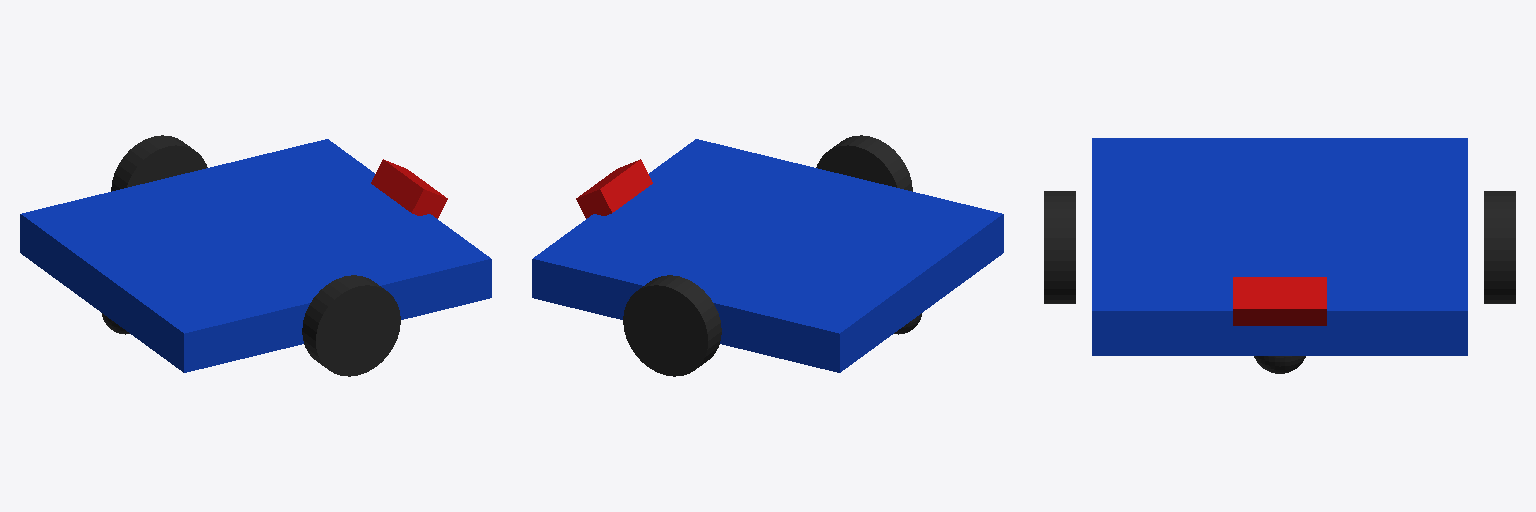
robot.urdf — line_follower_bot:
<?xml version="1.0"?>
<!--
  Line follower bot, resized to fit a 150 x 150 x 40 mm envelope
  (length x width x height, measured from the ground, wheels and camera included).

  base_link origin = wheel axle, 0.018 m above ground.
  So in the base_link frame: ground is z = -0.018, the 40 mm ceiling is z = +0.022.
-->
<robot name="line_follower_bot">

  <material name="body_blue"><color rgba="0.1 0.3 0.8 1.0"/></material>
  <material name="wheel_grey"><color rgba="0.2 0.2 0.2 1.0"/></material>
  <material name="cam_red"><color rgba="0.8 0.1 0.1 1.0"/></material>

  <!-- Chassis: 130 x 120 x 16 mm, centred on the axle, 10 mm ground clearance -->
  <link name="base_link">
    <inertial>
      <origin xyz="0 0 0" rpy="0 0 0"/>
      <mass value="0.30"/>
      <inertia ixx="3.664e-4" ixy="0" ixz="0" iyy="4.289e-4" iyz="0" izz="7.825e-4"/>
    </inertial>
    <visual>
      <origin xyz="0 0 0" rpy="0 0 0"/>
      <geometry><box size="0.13 0.12 0.016"/></geometry>
      <material name="body_blue"/>
    </visual>
    <collision>
      <origin xyz="0 0 0" rpy="0 0 0"/>
      <geometry><box size="0.13 0.12 0.016"/></geometry>
    </collision>
  </link>

  <!-- Drive wheels: radius 18 mm (36 mm diameter), width 10 mm, centres at y = +/-70 mm
       so the outer faces sit exactly at y = +/-75 mm (150 mm overall width) -->
  <link name="left_wheel_link">
    <inertial>
      <mass value="0.03"/>
      <inertia ixx="2.68e-6" ixy="0" ixz="0" iyy="2.68e-6" iyz="0" izz="4.86e-6"/>
    </inertial>
    <visual>
      <geometry><cylinder radius="0.018" length="0.01"/></geometry>
      <material name="wheel_grey"/>
    </visual>
    <collision>
      <geometry><cylinder radius="0.018" length="0.01"/></geometry>
    </collision>
  </link>
  <joint name="left_wheel_joint" type="continuous">
    <parent link="base_link"/>
    <child link="left_wheel_link"/>
    <origin xyz="0 0.07 0" rpy="-1.5708 0 0"/>
    <axis xyz="0 0 1"/>
  </joint>

  <link name="right_wheel_link">
    <inertial>
      <mass value="0.03"/>
      <inertia ixx="2.68e-6" ixy="0" ixz="0" iyy="2.68e-6" iyz="0" izz="4.86e-6"/>
    </inertial>
    <visual>
      <geometry><cylinder radius="0.018" length="0.01"/></geometry>
      <material name="wheel_grey"/>
    </visual>
    <collision>
      <geometry><cylinder radius="0.018" length="0.01"/></geometry>
    </collision>
  </link>
  <joint name="right_wheel_joint" type="continuous">
    <parent link="base_link"/>
    <child link="right_wheel_link"/>
    <origin xyz="0 -0.07 0" rpy="-1.5708 0 0"/>
    <axis xyz="0 0 1"/>
  </joint>

  <!-- Frictionless casters: radius 9 mm, bottoms level with the wheels (z = -0.018) -->
  <link name="caster_front_link">
    <inertial>
      <mass value="0.01"/>
      <inertia ixx="3.24e-7" ixy="0" ixz="0" iyy="3.24e-7" iyz="0" izz="3.24e-7"/>
    </inertial>
    <visual>
      <geometry><sphere radius="0.009"/></geometry>
      <material name="wheel_grey"/>
    </visual>
    <collision>
      <geometry><sphere radius="0.009"/></geometry>
    </collision>
  </link>
  <joint name="caster_front_joint" type="fixed">
    <parent link="base_link"/>
    <child link="caster_front_link"/>
    <origin xyz="0.055 0 -0.009" rpy="0 0 0"/>
  </joint>

  <link name="caster_rear_link">
    <inertial>
      <mass value="0.01"/>
      <inertia ixx="3.24e-7" ixy="0" ixz="0" iyy="3.24e-7" iyz="0" izz="3.24e-7"/>
    </inertial>
    <visual>
      <geometry><sphere radius="0.009"/></geometry>
      <material name="wheel_grey"/>
    </visual>
    <collision>
      <geometry><sphere radius="0.009"/></geometry>
    </collision>
  </link>
  <joint name="caster_rear_joint" type="fixed">
    <parent link="base_link"/>
    <child link="caster_rear_link"/>
    <origin xyz="-0.055 0 -0.009" rpy="0 0 0"/>
  </joint>

  <!-- Camera: just ahead of the chassis front edge, pitched 0.75 rad (~43 deg) down.
       Body is 12 x 30 x 10 mm and sits behind the optical origin. -->
  <link name="camera_link">
    <inertial>
      <origin xyz="-0.006 0 0" rpy="0 0 0"/>
      <mass value="0.005"/>
      <inertia ixx="4.17e-7" ixy="0" ixz="0" iyy="1.02e-7" iyz="0" izz="4.35e-7"/>
    </inertial>
    <visual>
      <origin xyz="-0.006 0 0" rpy="0 0 0"/>
      <geometry><box size="0.012 0.03 0.01"/></geometry>
      <material name="cam_red"/>
    </visual>
  </link>
  <joint name="camera_joint" type="fixed">
    <parent link="base_link"/>
    <child link="camera_link"/>
    <origin xyz="0.07 0 0.008" rpy="0 0.55 0"/>
  </joint>

  <!-- ================= Gazebo (Harmonic) ================= -->
  <gazebo reference="left_wheel_link"><mu1>1.0</mu1><mu2>1.0</mu2></gazebo>
  <gazebo reference="right_wheel_link"><mu1>1.0</mu1><mu2>1.0</mu2></gazebo>
  <gazebo reference="caster_front_link"><mu1>0.0</mu1><mu2>0.0</mu2></gazebo>
  <gazebo reference="caster_rear_link"><mu1>0.0</mu1><mu2>0.0</mu2></gazebo>

  <gazebo reference="camera_link">
    <sensor name="line_camera" type="camera">
      <always_on>true</always_on>
      <update_rate>30</update_rate>
      <visualize>false</visualize>
      <topic>camera/image_raw</topic>
      <camera>
        <horizontal_fov>1.3</horizontal_fov>
        <image>
          <width>320</width>
          <height>240</height>
          <format>R8G8B8</format>
        </image>
        <clip>
          <near>0.01</near>
          <far>5.0</far>
        </clip>
      </camera>
    </sensor>
  </gazebo>

  <gazebo>
    <plugin filename="gz-sim-diff-drive-system" name="gz::sim::systems::DiffDrive">
      <left_joint>left_wheel_joint</left_joint>
      <right_joint>right_wheel_joint</right_joint>
      <wheel_separation>0.14</wheel_separation>
      <wheel_radius>0.018</wheel_radius>
      <odom_publish_frequency>30</odom_publish_frequency>
      <topic>cmd_vel</topic>
      <odom_topic>odom</odom_topic>
      <tf_topic>tf</tf_topic>
      <frame_id>odom</frame_id>
      <child_frame_id>base_link</child_frame_id>
      <max_linear_velocity>1.0</max_linear_velocity>
      <min_linear_velocity>-1.0</min_linear_velocity>
      <max_angular_velocity>4.0</max_angular_velocity>
      <min_angular_velocity>-4.0</min_angular_velocity>
    </plugin>

    <plugin filename="gz-sim-joint-state-publisher-system"
            name="gz::sim::systems::JointStatePublisher">
      <topic>joint_states</topic>
    </plugin>
  </gazebo>

</robot>

--- Render facts (derived) ---
Views: 3 orthographic renders of the robot side by side, from view 1: azimuth 30°, elevation 25°; view 2: azimuth 150°, elevation 25°; view 3: azimuth 270°, elevation 25°.
Robot: line_follower_bot — 6 links, 5 joints (2 continuous, 3 fixed); root link base_link; default pose: every joint at zero.
Visible links, largest first — view 1: base_link, right_wheel_link, left_wheel_link, camera_link; view 2: base_link, left_wheel_link, right_wheel_link, camera_link; view 3: base_link, camera_link, left_wheel_link, right_wheel_link, caster_front_link.
Boxes of the visible links, x1,y1,x2,y2 form: base_link: [20, 139, 491, 372]; right_wheel_link: [302, 275, 400, 376]; left_wheel_link: [111, 135, 207, 191]; camera_link: [371, 159, 447, 218]; base_link: [532, 139, 1003, 372]; left_wheel_link: [623, 275, 721, 376]; right_wheel_link: [816, 135, 912, 191]; camera_link: [576, 159, 652, 218]; base_link: [1092, 138, 1467, 355]; camera_link: [1233, 277, 1326, 325]; left_wheel_link: [1484, 191, 1515, 303]; right_wheel_link: [1044, 191, 1075, 303]; caster_front_link: [1254, 356, 1305, 373].
Bounding box of the posed robot: 0.1376 × 0.15 × 0.0365 m (x, y, z).
Geometry: primitives only (box / cylinder / sphere), no mesh files.
